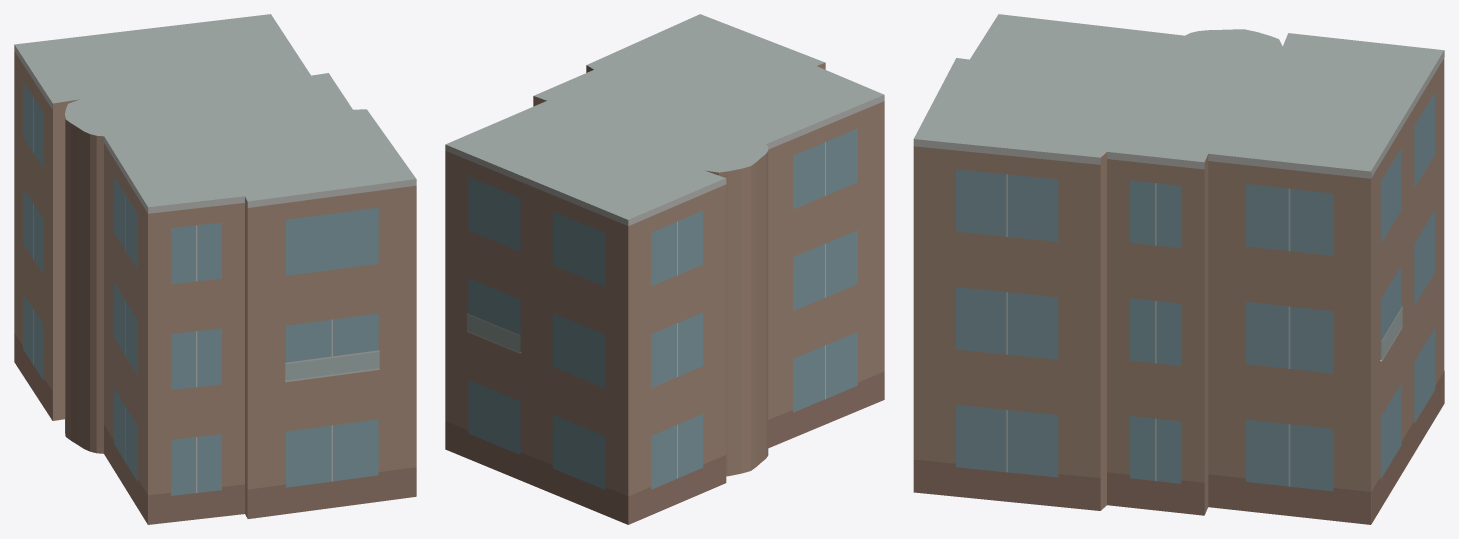
Rendered from survey-upis-33015566.glb.
The picture shows the model from 3 angles, left to right: view 1: azimuth 30°, elevation 25°; view 2: azimuth 150°, elevation 25°; view 3: azimuth 270°, elevation 25°; orthographic projection. The views are drawn at different scales.
Parts seen in each view (by area): view 1: survey-upis-33015566.tmp; view 2: survey-upis-33015566.tmp; view 3: survey-upis-33015566.tmp.
Boxes of the visible parts, x1,y1,x2,y2 form: survey-upis-33015566.tmp: [14, 14, 416, 524]; survey-upis-33015566.tmp: [445, 14, 884, 524]; survey-upis-33015566.tmp: [913, 14, 1444, 524].
Bounding box in the file's own units: 11.49 × 12 × 16.35.
